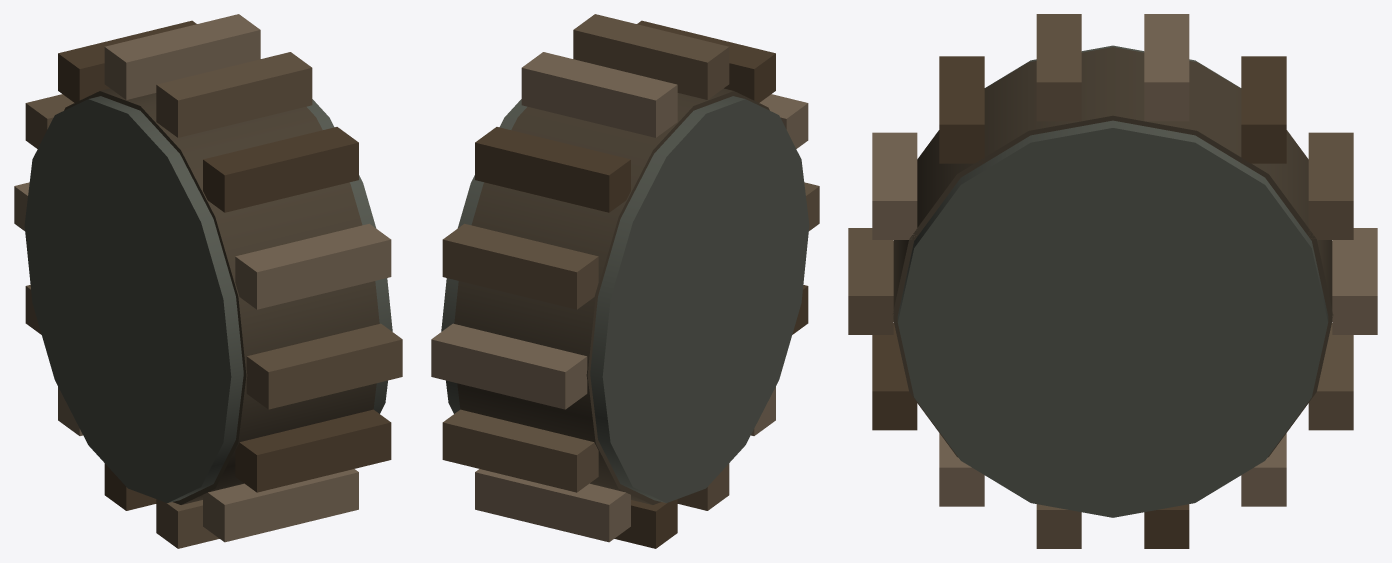
The model's file is CMU3DGearMovingD1F0Cloud.glb.
3 views of the same model, side by side, from view 1: azimuth 30°, elevation 25°; view 2: azimuth 150°, elevation 25°; view 3: azimuth 270°, elevation 25° (orthographic). The views are drawn at different scales.
Parts seen in each view (by area): view 1: plain near gear cheek, narrow dark gear drum, axial tooth 4, axial tooth 7, axial tooth 6, axial tooth 5, axial tooth 8, axial tooth 3, axial tooth 9, axial tooth 2, axial tooth 10, plain far gear cheek (+4 smaller); view 2: plain near gear cheek, narrow dark gear drum, axial tooth 3, axial tooth 0, axial tooth 1, axial tooth 2, axial tooth 13, axial tooth 4, axial tooth 12, axial tooth 5, axial tooth 11, plain far gear cheek (+4 smaller); view 3: plain far gear cheek, narrow dark gear drum, axial tooth 3, axial tooth 4, axial tooth 2, axial tooth 5, axial tooth 1, axial tooth 6, axial tooth 0, axial tooth 7, axial tooth 8, axial tooth 13 (+4 smaller).
Part boxes in pixels (x1,y1,x2,y2): plain near gear cheek: (24,96,243,502); narrow dark gear drum: (64,88,379,504); axial tooth 4: (156,52,312,137); axial tooth 7: (246,323,402,409); axial tooth 6: (235,223,391,309); axial tooth 5: (203,127,358,212); axial tooth 8: (235,409,391,492); axial tooth 3: (104,14,260,99); axial tooth 9: (203,469,358,542); axial tooth 2: (58,20,196,102); axial tooth 10: (156,499,219,548); plain far gear cheek: (307,99,392,413); plain near gear cheek: (590,96,809,502); narrow dark gear drum: (454,88,769,504); axial tooth 3: (521,52,677,137); axial tooth 0: (431,323,587,409); axial tooth 1: (442,223,598,309); axial tooth 2: (475,127,630,212); axial tooth 13: (442,409,598,492); axial tooth 4: (573,14,729,99); axial tooth 12: (475,469,630,542); axial tooth 5: (637,20,775,102); axial tooth 11: (614,499,677,548); plain far gear cheek: (441,99,526,413); plain far gear cheek: (897,120,1328,517); narrow dark gear drum: (892,47,1333,457); axial tooth 3: (1144,14,1189,121); axial tooth 4: (1036,14,1081,121); axial tooth 2: (1241,56,1286,163); axial tooth 5: (939,56,984,163); axial tooth 1: (1308,132,1353,239); axial tooth 6: (872,132,917,239); axial tooth 0: (1332,228,1377,334); axial tooth 7: (848,228,893,334); axial tooth 8: (872,323,917,430); axial tooth 13: (1308,323,1353,430).
Bounding box in the file's own units: 0.181 × 0.4787 × 0.492.
